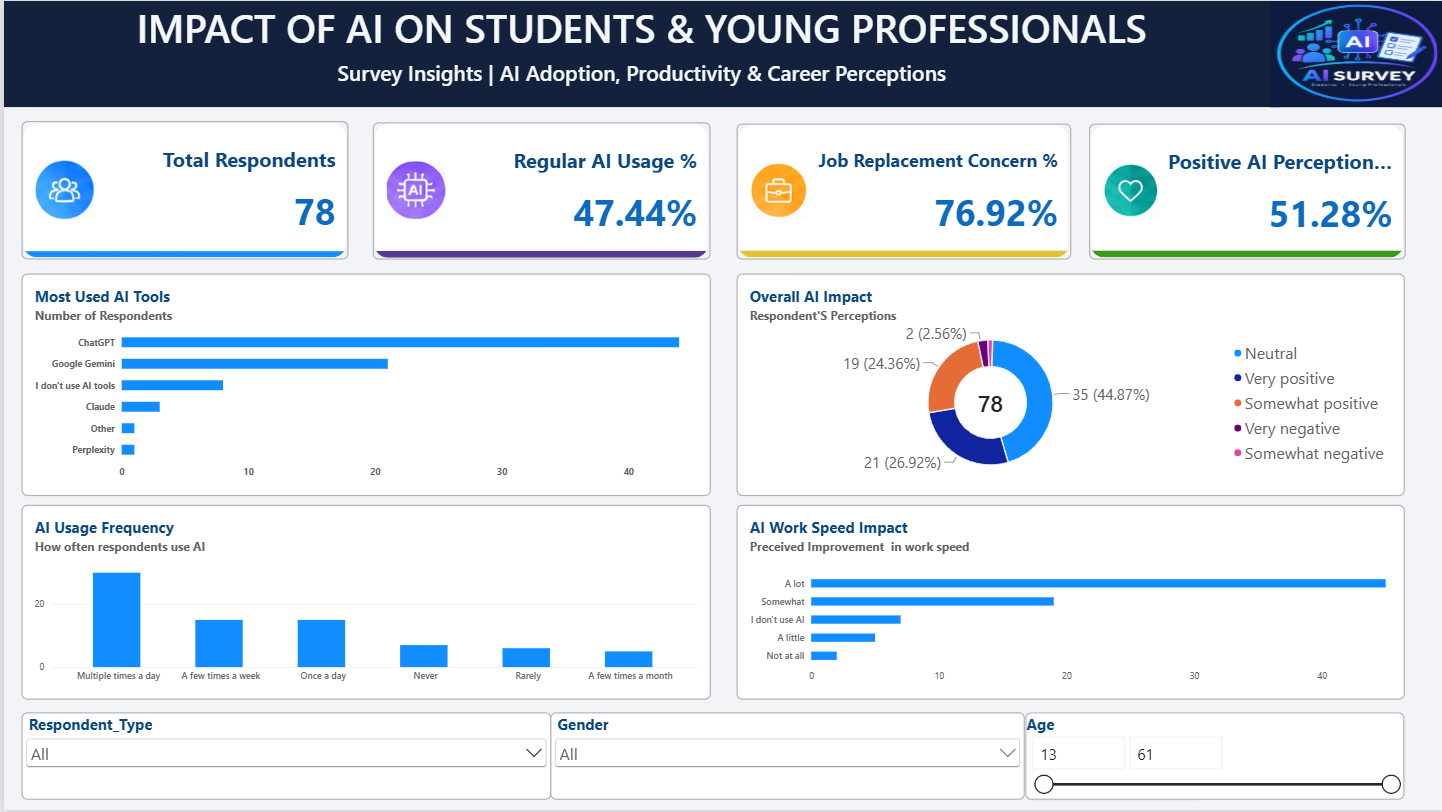

The page's visual inventory and layout, read from the dashboard file:
{"tool":"powerbi","page":{"name":"Executive Overview","canvas":[1920,1080],"ordinal":0},"visuals":[{"type":"cardVisual","fields":{"Data":["AI Survey.Total Respondents"]},"box":[22.7,160.5,436,184.9],"z":0},{"type":"cardVisual","fields":{"Data":["AI Survey.Positive AI Perception %"]},"box":[1445.9,164,422.1,181.4],"z":1000},{"type":"cardVisual","fields":{"Data":["AI Survey.Regular AI Usage %"]},"box":[491.9,162.2,450,183.1],"z":2000},{"type":"cardVisual","fields":{"Data":["AI Survey.Job Replacement Concern %"]},"box":[976.7,164,446.5,181.4],"z":3000},{"type":"clusteredBarChart","title":"Most Used AI Tools","fields":{"Category":["AI Survey.Most_Used_AI_Tool "],"Y":["CountNonNull(AI Survey.Respondent_ID)"]},"box":[22.7,362.8,919.2,296.5],"z":4000},{"type":"donutChart","title":"Overall AI Impact","fields":{"Category":["AI Survey.Overall_AI_Impact "],"Y":["CountNonNull(AI Survey.Respondent_ID)"]},"box":[976.7,362.8,891.3,296.5],"z":5000},{"type":"slicer","fields":{"Values":["AI Survey.Respondent_Type "]},"box":[22.7,948.8,706.4,116.9],"z":6000},{"type":"slicer","fields":{"Values":["AI Survey.Gender"]},"box":[729.1,948.8,633.1,116.9],"z":7000},{"type":"slicer","title":"Age","fields":{"Values":["AI Survey.Age"]},"box":[1362.2,948.8,505.8,116.9],"z":8000},{"type":"textbox","title":"IMPACT OF AI ON STUDENTS & YOUNG PROFESSIONALS ","box":[0,0,1700.6,123.8],"z":9000},{"type":"textbox","title":"Survey Insights | AI Adoption, Productivity & Career Perceptions","box":[0,76.7,1700.6,64.5],"z":10000},{"type":"columnChart","title":"AI Usage Frequency","fields":{"Category":["AI Survey.AI_Usage_Frequency "],"Y":["CountNonNull(AI Survey.Respondent_ID)"]},"box":[22.7,671.5,919.2,259.9],"z":11000},{"type":"barChart","title":"AI Work Speed Impact","fields":{"Category":["AI Survey.AI_Work_Speed_Impact "],"Y":["CountNonNull(AI Survey.Respondent_ID)"]},"box":[977,672,891,260],"z":12000},{"type":"image","box":[1688.4,0,232,141.3],"z":13000}]}

Visuals, with their boxes in screenshot pixels (x1, y1, x2, y2), scaled from the page's 1920x1080 canvas onto the 1442x812 screenshot:
cardVisual - AI Survey.Total Respondents: <box>17,121,345,260</box>
cardVisual - AI Survey.Positive AI Perception %: <box>1086,123,1403,260</box>
cardVisual - AI Survey.Regular AI Usage %: <box>369,122,707,260</box>
cardVisual - AI Survey.Job Replacement Concern %: <box>734,123,1069,260</box>
"Most Used AI Tools" clusteredBarChart: <box>17,273,707,496</box>
"Overall AI Impact" donutChart: <box>734,273,1403,496</box>
slicer - AI Survey.Respondent_Type : <box>17,713,548,801</box>
slicer - AI Survey.Gender: <box>548,713,1023,801</box>
"Age" slicer: <box>1023,713,1403,801</box>
"IMPACT OF AI ON STUDENTS & YOUNG PROFESSIONALS " textbox: <box>0,0,1277,93</box>
"Survey Insights | AI Adoption, Productivity & Career Perceptions" textbox: <box>0,58,1277,106</box>
"AI Usage Frequency" columnChart: <box>17,505,707,700</box>
"AI Work Speed Impact" barChart: <box>734,505,1403,701</box>
image: <box>1268,0,1441,106</box>
